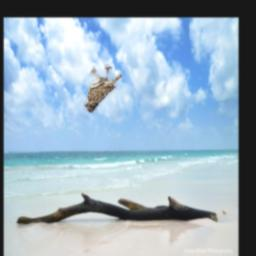Sparrow: (83, 64, 122, 112)
